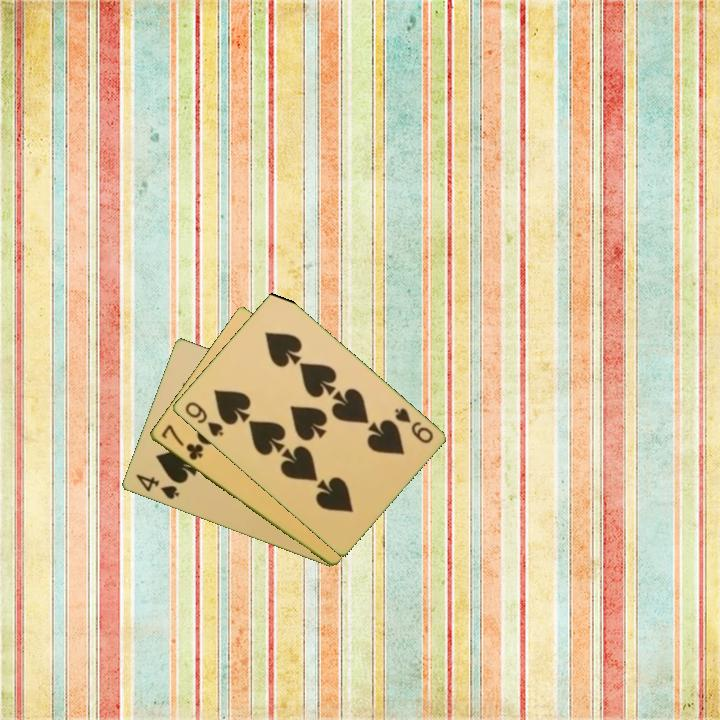4s: (132, 470, 182, 502)
7c: (157, 421, 206, 463)
9s: (391, 404, 436, 447), (181, 398, 226, 440)
